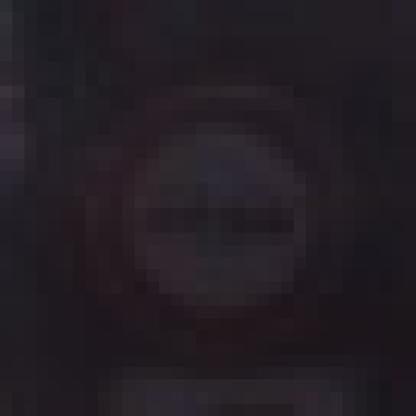No Overtaking: (62, 62, 356, 356)
